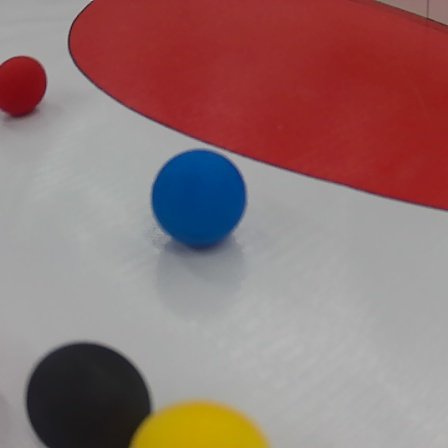black: (26, 337, 152, 447)
blue: (149, 144, 250, 251)
red: (1, 50, 50, 117)
red_base: (70, 0, 448, 210)
yellow: (129, 395, 271, 448)
